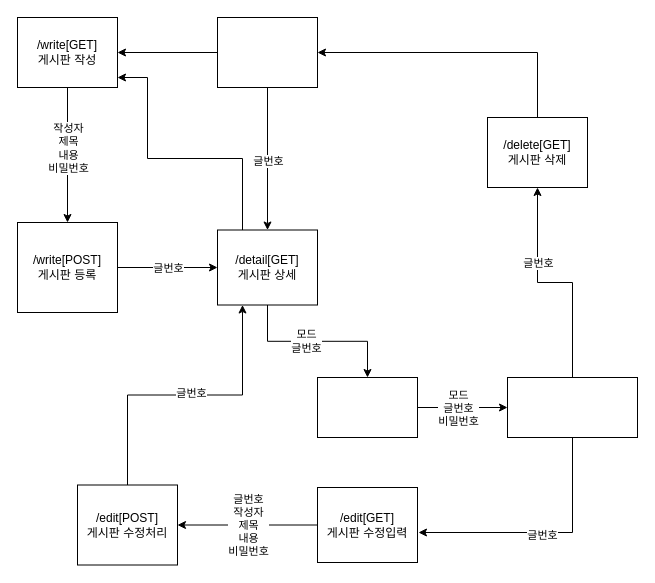
Some shapes in this 655 by 583 pixel diagram are drawn without their labels. Here are the shapes that lost their labels. From the top down, the centre of each, then its label:
At pixel 267 52: "/list[GET] 게시판 목록".
At pixel 367 407: "/password[GET] 비밀번호 입력".
At pixel 572 407: "/password[GET] 비밀번호 검사".
